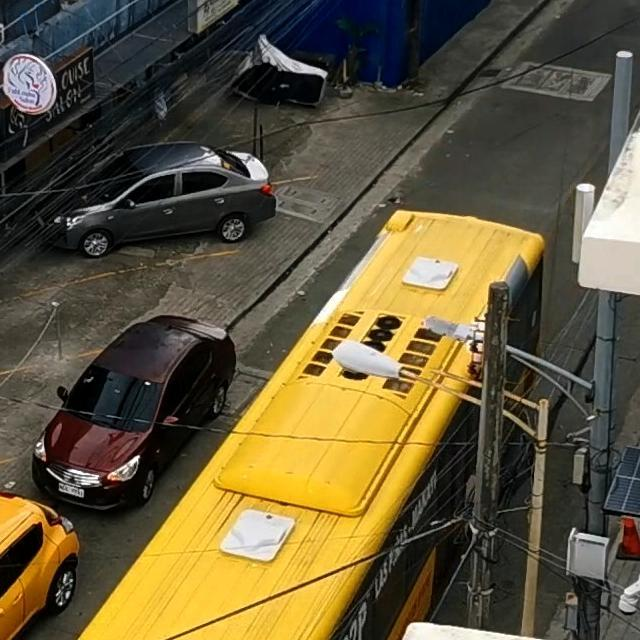Car: (32, 314, 245, 506), (40, 153, 274, 259), (0, 481, 77, 640)
